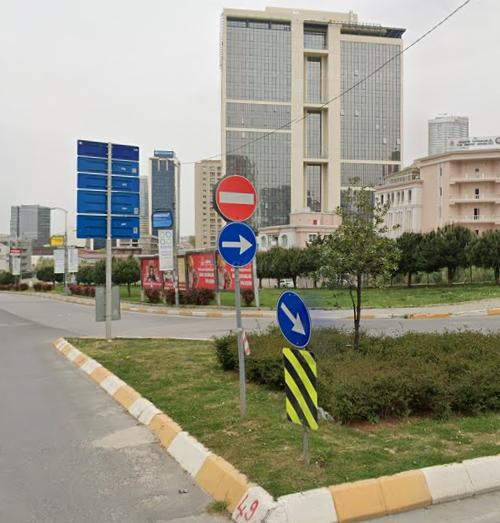turnright: (218, 225, 258, 262)
